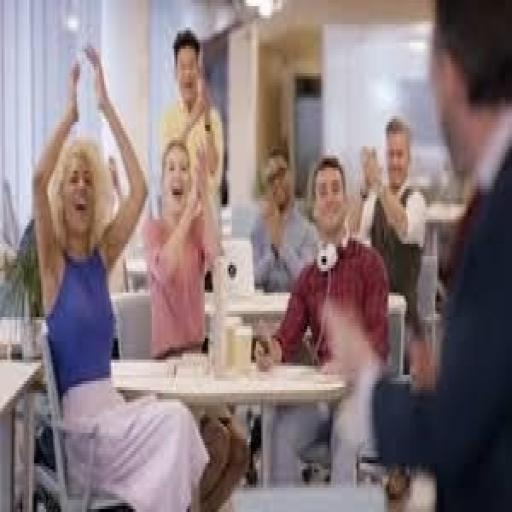clapping: (30, 43, 212, 509), (260, 152, 392, 488), (150, 18, 244, 354), (248, 140, 319, 293)
